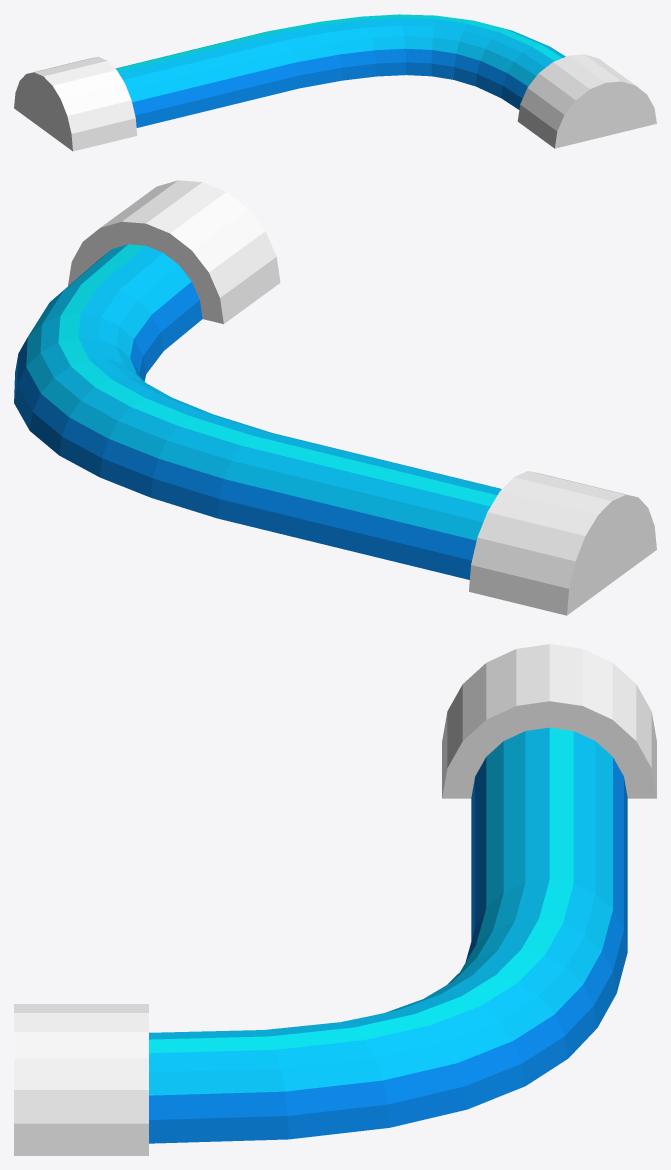
Rendered from Building_02_a.fbx.
3 views of the same model, one above another, from view 1: azimuth 30°, elevation 25°; view 2: azimuth 150°, elevation 25°; view 3: azimuth 270°, elevation 25° (orthographic). The views are drawn at different scales.
Visible parts, largest first — view 1: Building_02_a; view 2: Building_02_a; view 3: Building_02_a.
Part boxes in pixels (x1=…): Building_02_a: x1=14, y1=14, x2=656, y2=151; Building_02_a: x1=14, y1=180, x2=656, y2=615; Building_02_a: x1=14, y1=644, x2=656, y2=1155.
Size of the model in its own units: 135 by 14.83 by 88.77.
